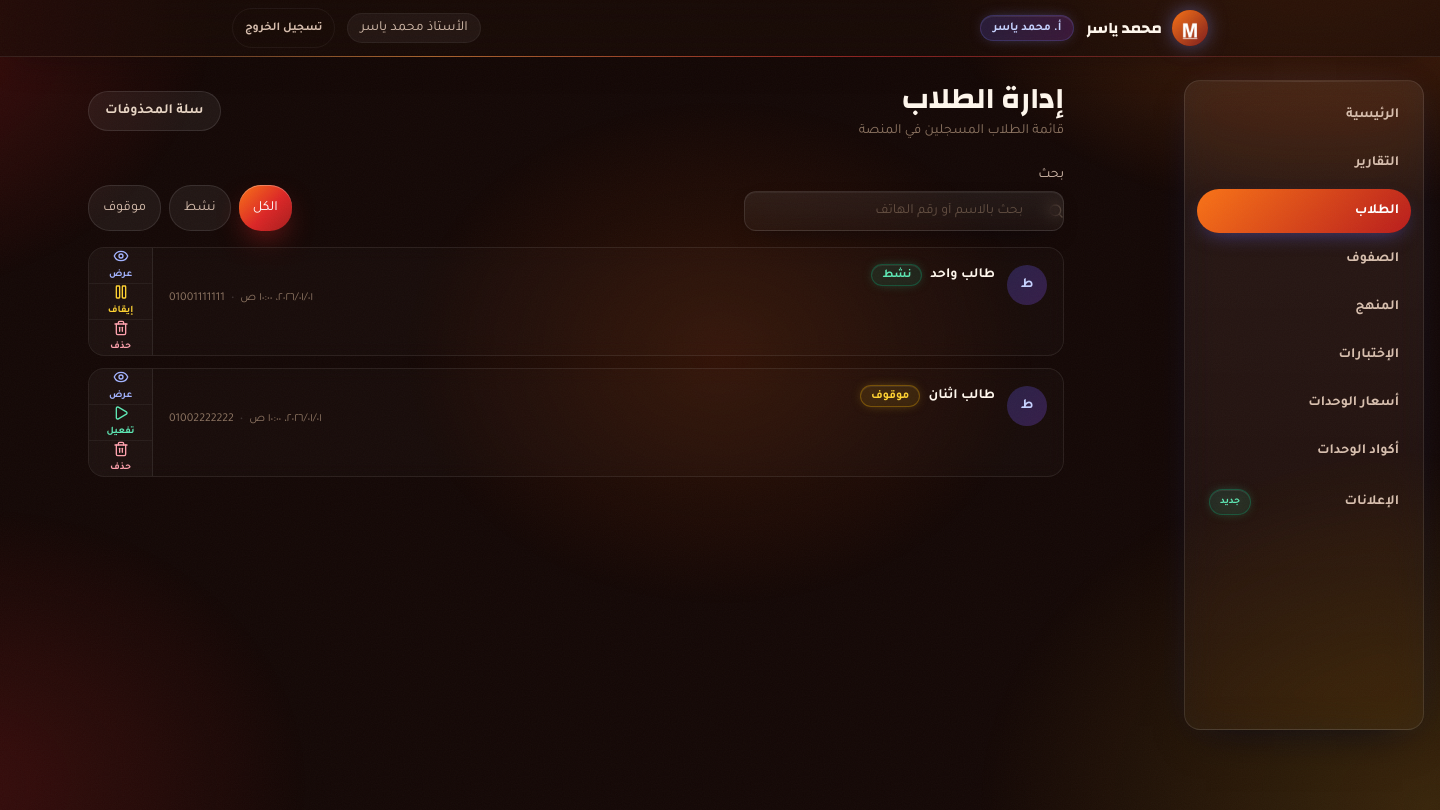
Test: StudentListPage (staff lifecycle) › disables a student with a mandatory reason after confirmation
Click the button "إيقاف" at coordinates (120, 302), box [89,284,152,320]
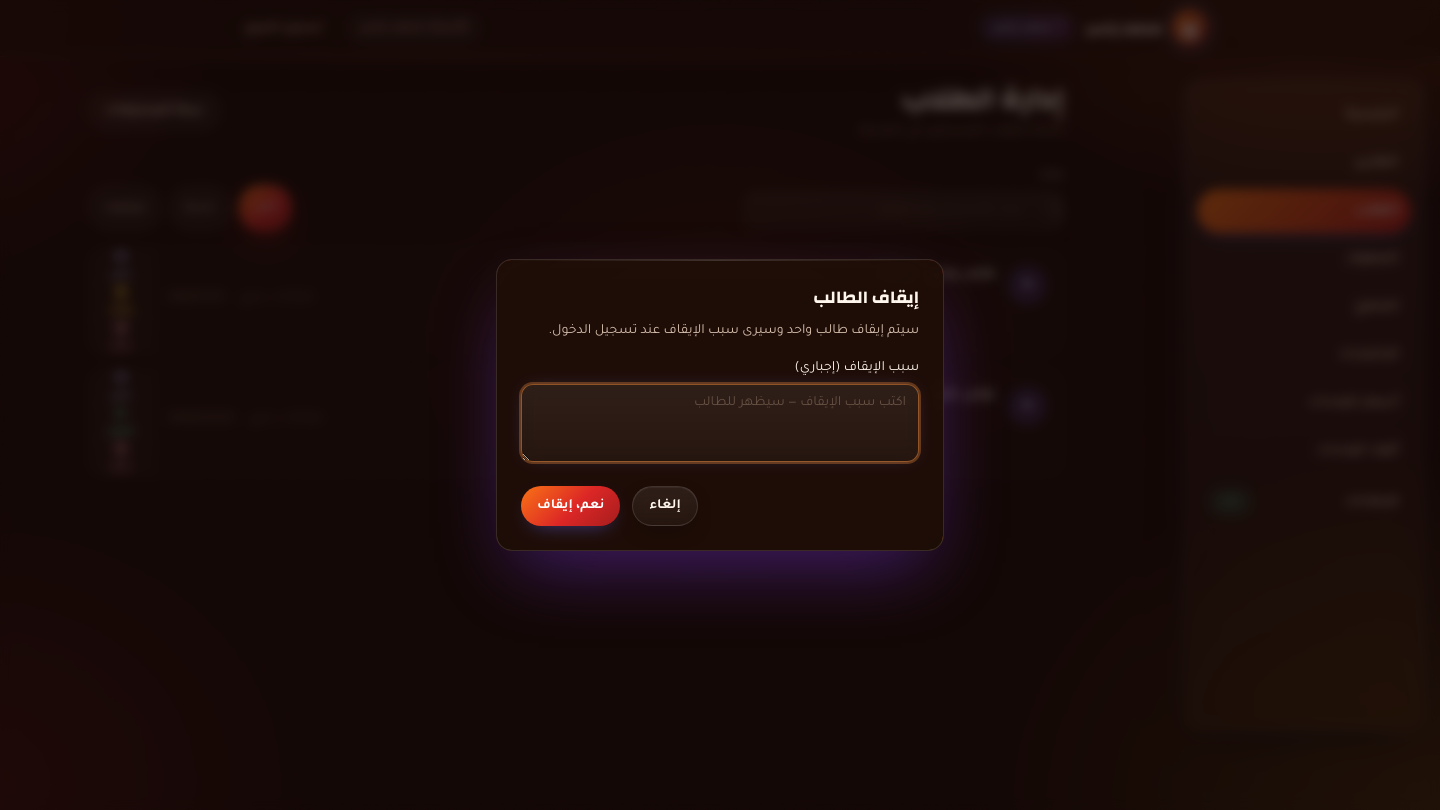
Check: the dialog is shown, box [496,259,944,551]
Click the button "نعم، إيقاف" at coordinates (571, 506), box [521,486,620,526]
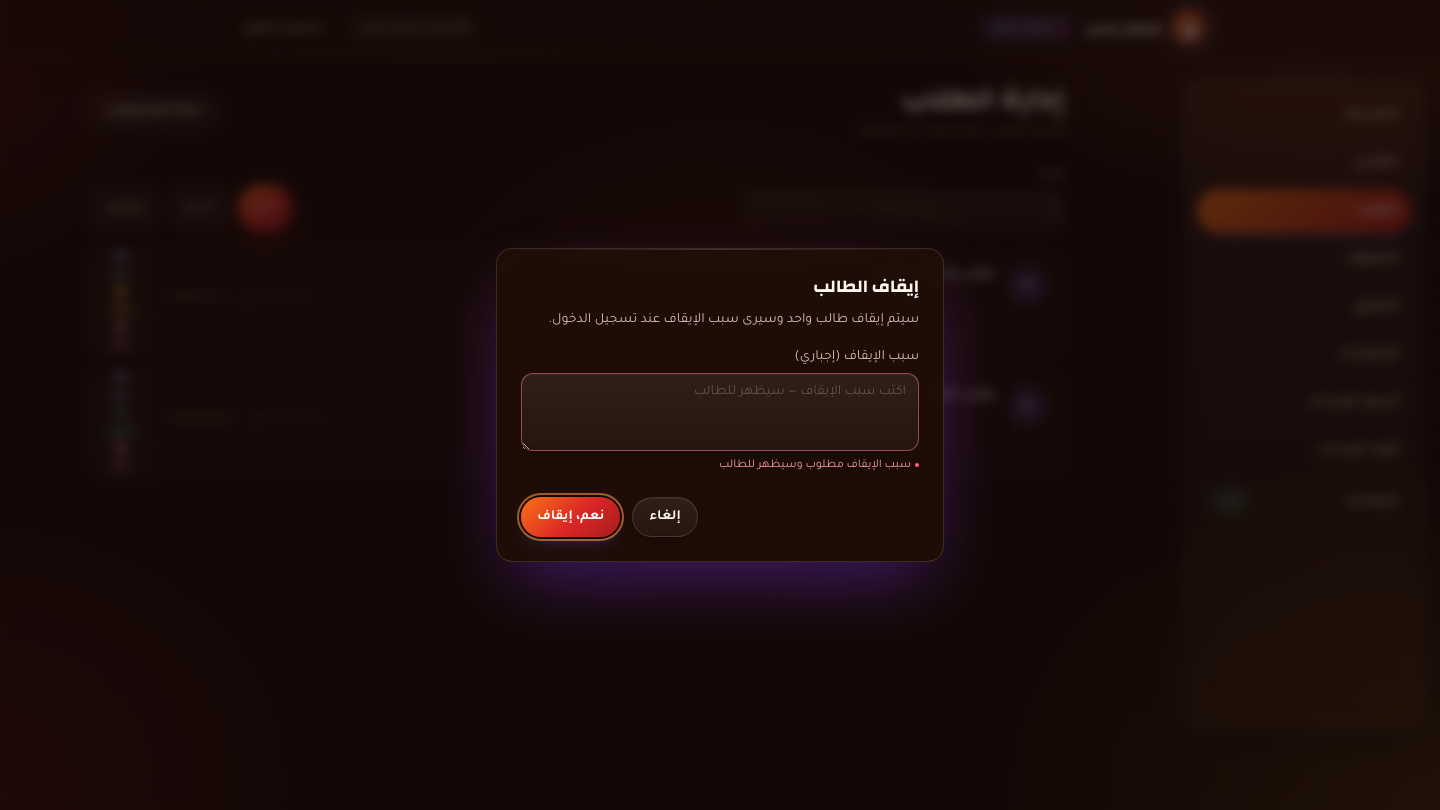
Check: the text "سبب الإيقاف مطلوب وسيظهر للطالب" is shown, box [719,459,919,471]
Type "مشاركة الحساب" into the text box labelled "سبب الإيقاف (إجباري)" at coordinates (720, 412), box [521,373,919,451]
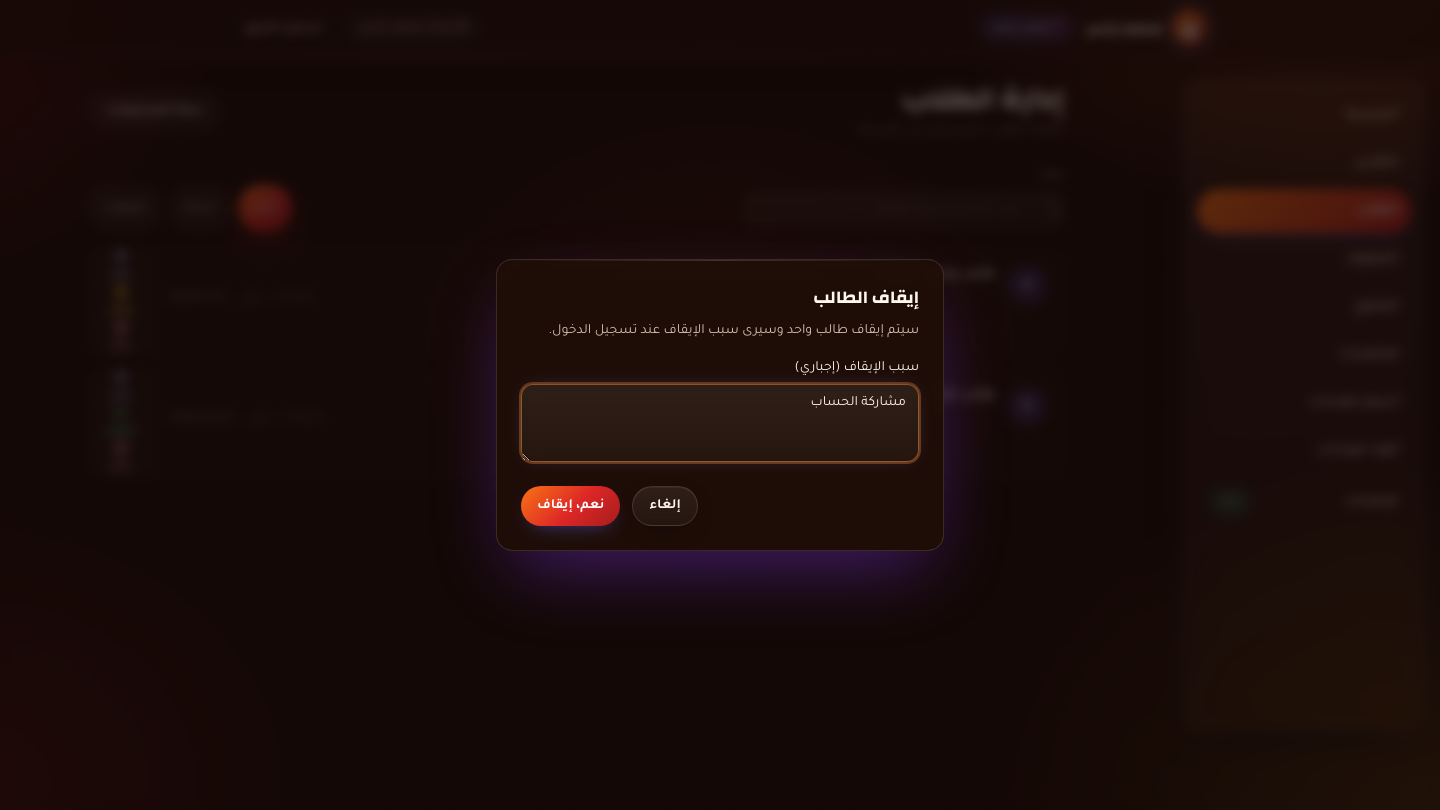
Click the button "نعم، إيقاف" at coordinates (571, 506), box [521,486,620,526]
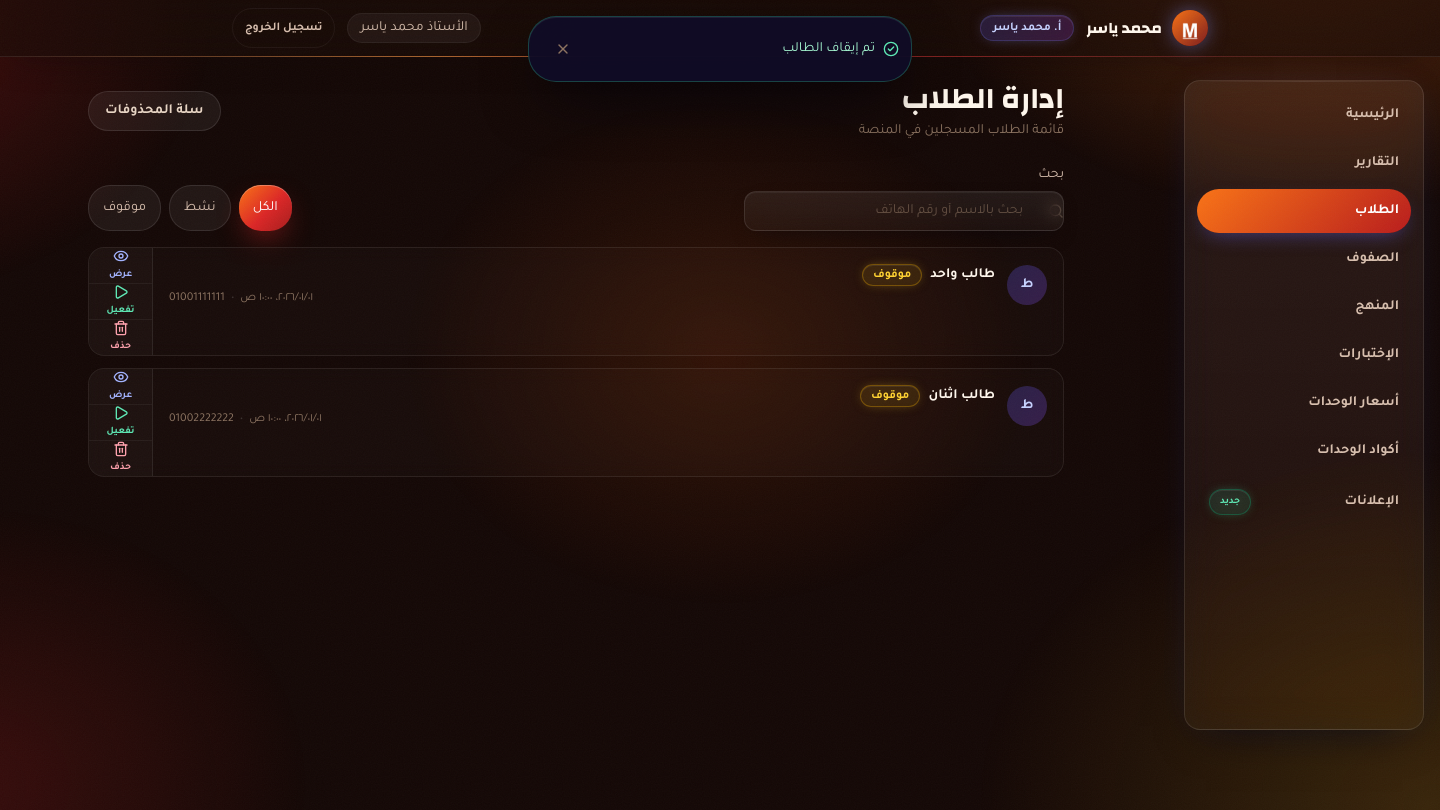
Check: the text "موقوف" next to "طالب واحد" is shown, box [873,269,911,281]
